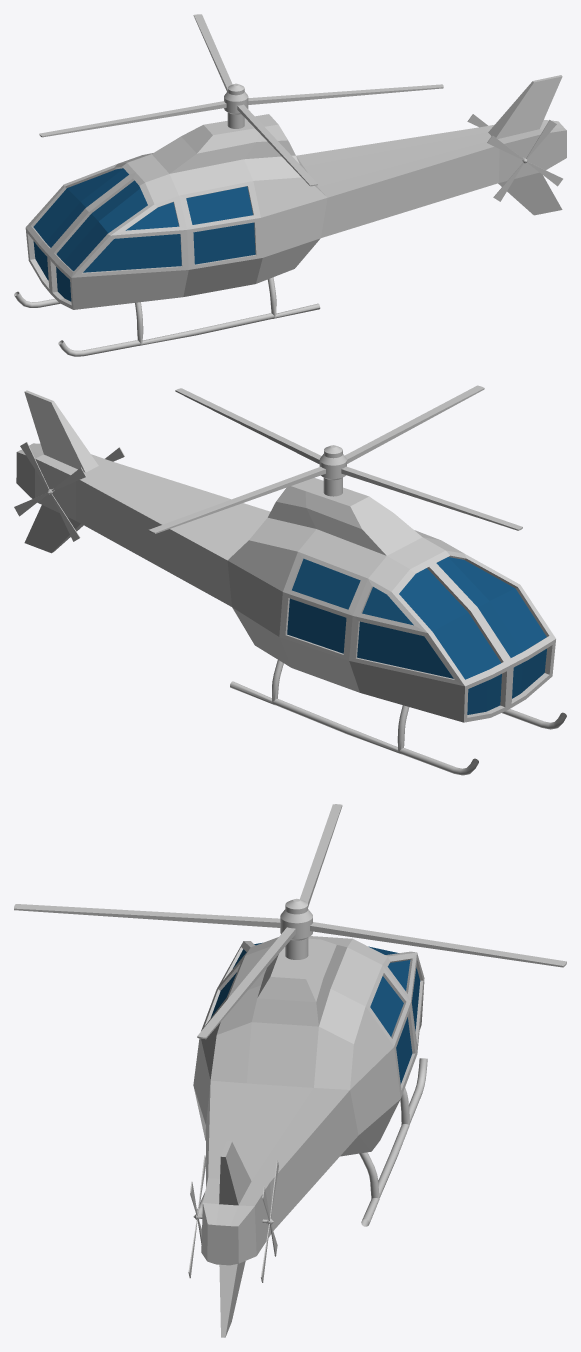
File: helicopter_animation_000244.obj
3 views of the same model, one above another, from view 1: azimuth 30°, elevation 25°; view 2: azimuth 150°, elevation 25°; view 3: azimuth 270°, elevation 25° (orthographic). The views are drawn at different scales.
Visible parts, largest first — view 1: Helicopter.007_Cylinder.008, Helicopter.001_Cylinder.001, Helicopter.003_Cylinder.004; view 2: Helicopter.007_Cylinder.008, Helicopter.001_Cylinder.001, Helicopter.004_Cylinder.005; view 3: Helicopter.007_Cylinder.008, Helicopter.001_Cylinder.001.
Boxes of the visible parts, x1=… form: Helicopter.007_Cylinder.008: x1=14, y1=75, x2=566, y2=356; Helicopter.001_Cylinder.001: x1=39, y1=14, x2=443, y2=186; Helicopter.003_Cylinder.004: x1=487, y1=120, x2=562, y2=201; Helicopter.007_Cylinder.008: x1=16, y1=390, x2=566, y2=775; Helicopter.001_Cylinder.001: x1=148, y1=385, x2=522, y2=533; Helicopter.004_Cylinder.005: x1=14, y1=442, x2=86, y2=541; Helicopter.007_Cylinder.008: x1=193, y1=936, x2=427, y2=1337; Helicopter.001_Cylinder.001: x1=14, y1=804, x2=566, y2=1039.
Size of the model in its own units: 7.55 by 3.2 by 5.42.
